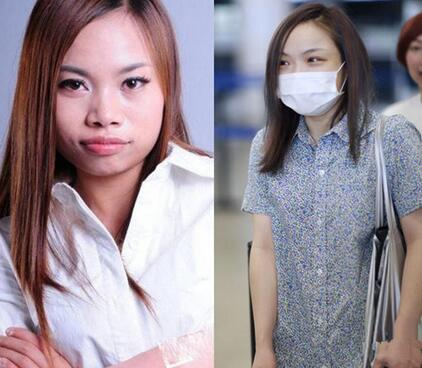face: (45, 19, 163, 173), (407, 35, 422, 86)
face_mask: (275, 23, 344, 113)
